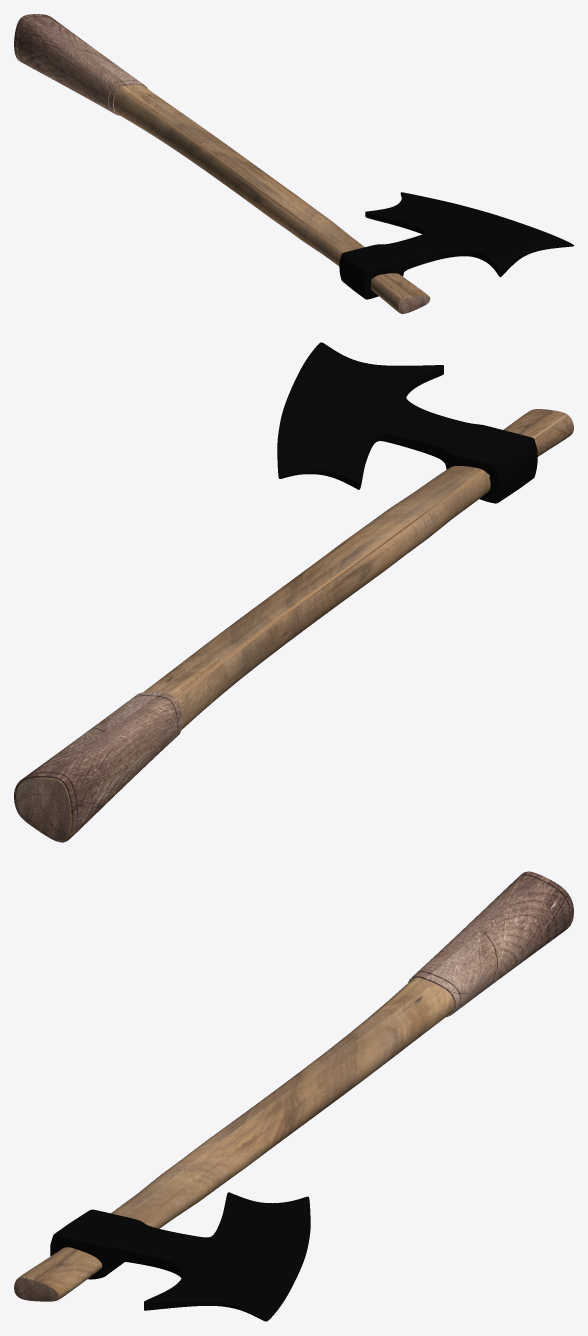
The model's file is axe.obj.
The picture shows the model from 3 angles, top to bottom: view 1: azimuth 30°, elevation 25°; view 2: azimuth 150°, elevation 25°; view 3: azimuth 330°, elevation 25°; orthographic projection. The views are drawn at different scales.
Parts seen in each view (by area): view 1: Cylinder001; view 2: Cylinder001; view 3: Cylinder001.
Part boxes in pixels (box(x1,y1,x2,y2)): Cylinder001: box(14, 14, 573, 313); Cylinder001: box(14, 342, 573, 842); Cylinder001: box(14, 871, 573, 1321).
Size of the model in its own units: 9.09 by 2.07 by 30.65.
Materials: 3 (2 with a texture image).
